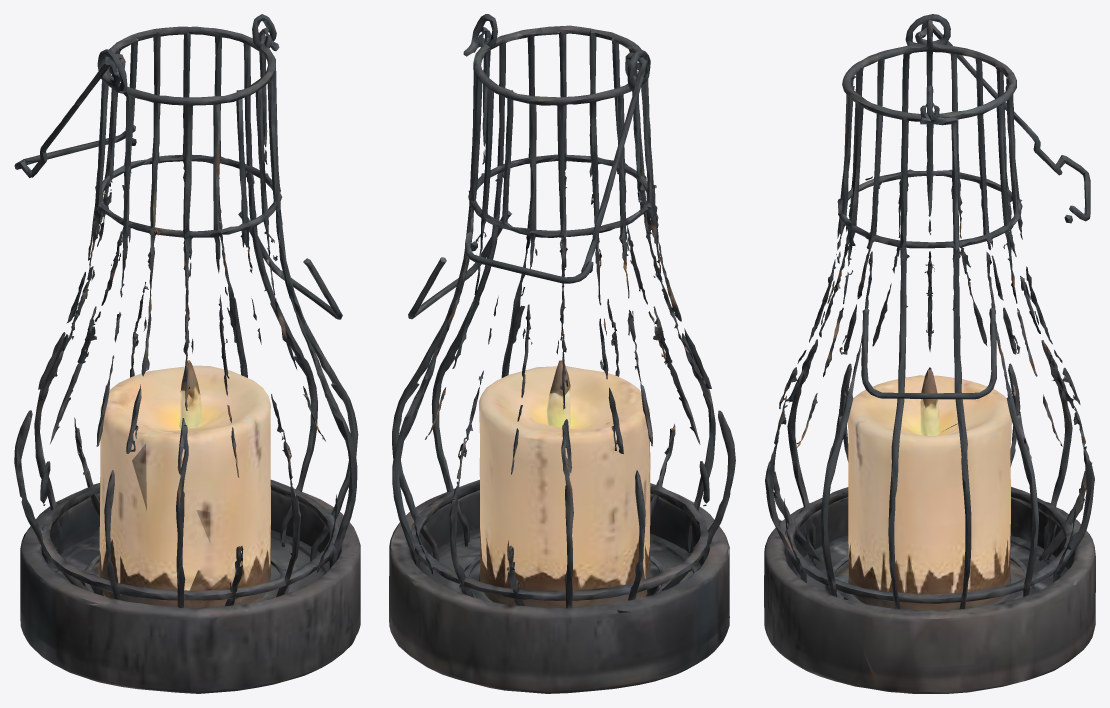
File: CandleCageTall.glb
3 views of the same model, side by side, from view 1: azimuth 30°, elevation 25°; view 2: azimuth 150°, elevation 25°; view 3: azimuth 270°, elevation 25° (orthographic). The views are drawn at different scales.
Visible parts, largest first — view 1: CandleCageTall; view 2: CandleCageTall; view 3: CandleCageTall.
Part boxes in pixels (box(x1,y1,x2,y2)): CandleCageTall: box(14, 14, 360, 693); CandleCageTall: box(389, 14, 735, 693); CandleCageTall: box(764, 14, 1095, 693).
Size of the model in its own units: 0.3154 by 0.5999 by 0.3143.
Materials: 2 (2 with a texture image).
